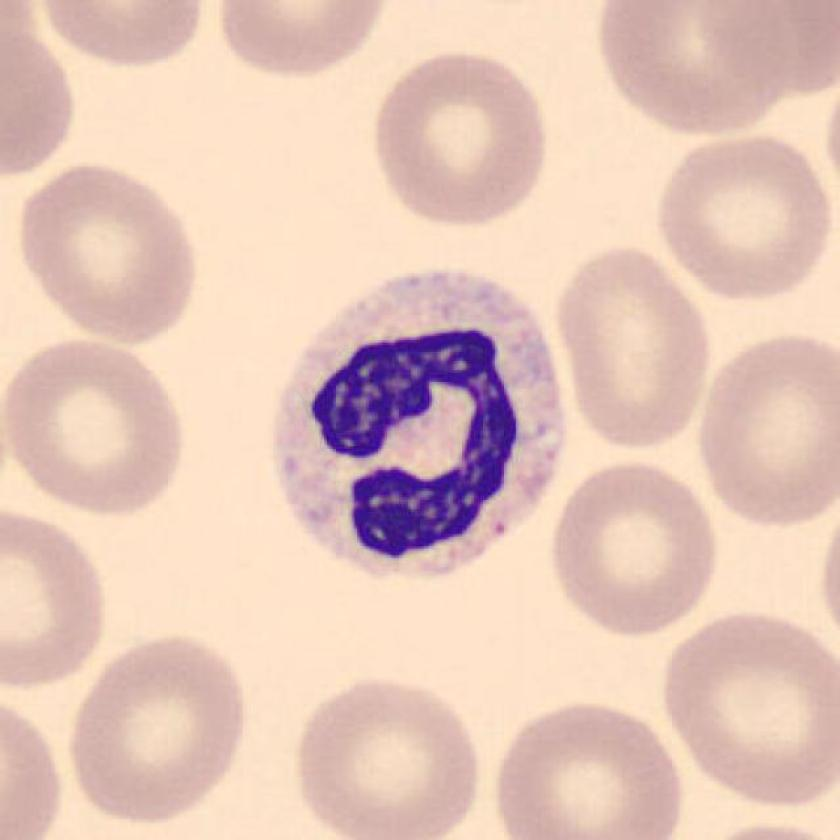neutrophil: (278, 270, 565, 581)
